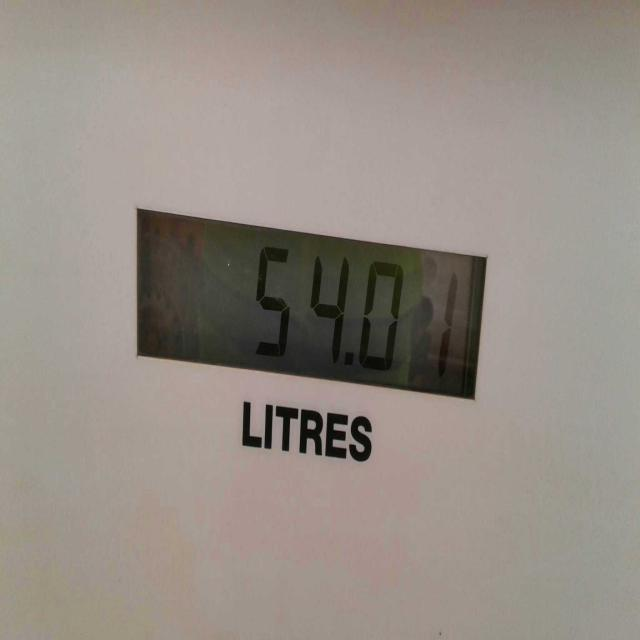.: (339, 345, 357, 377)
0: (357, 253, 404, 374)
1: (419, 257, 461, 385)
4: (299, 248, 353, 362)
5: (242, 233, 295, 364)
